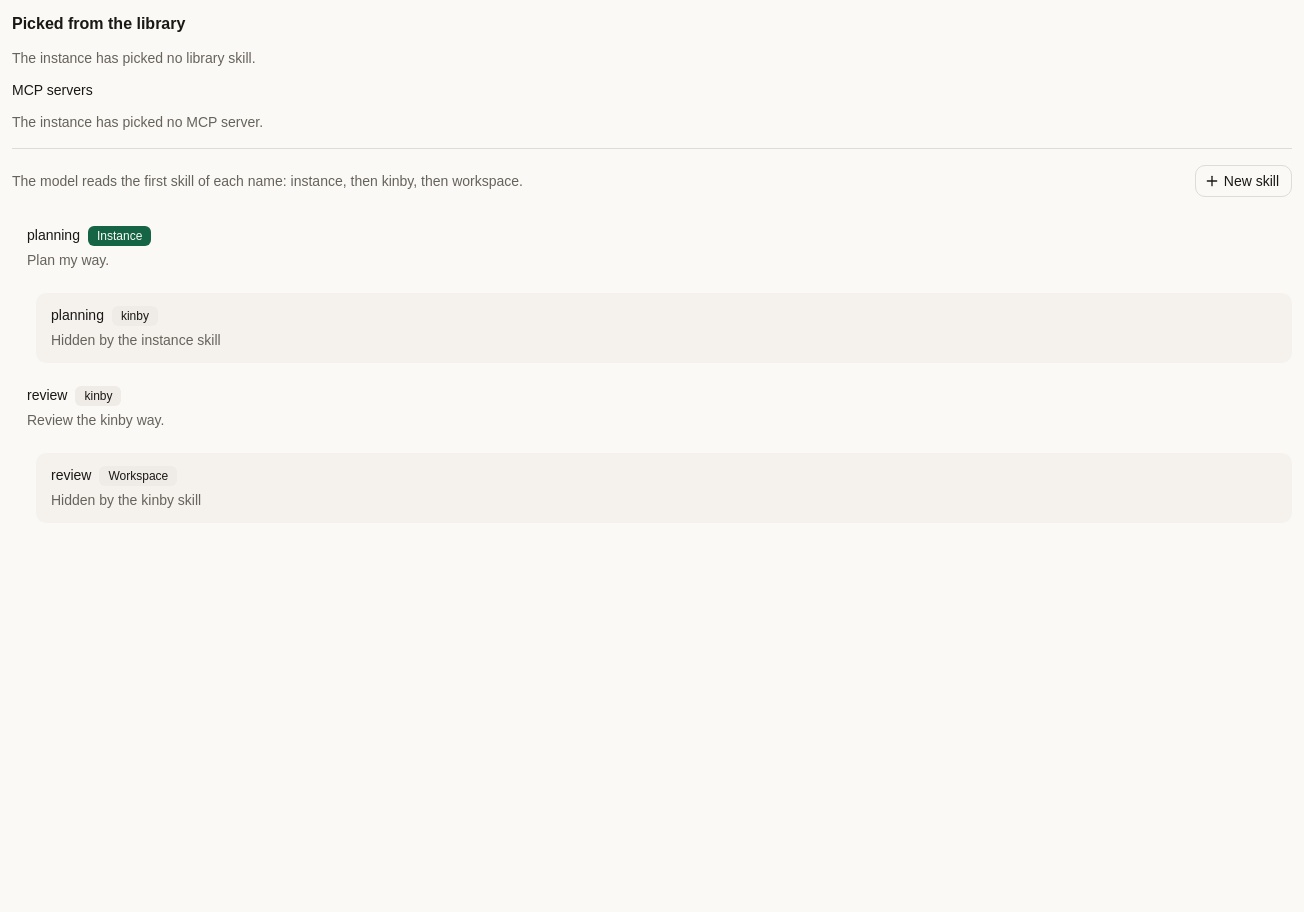
Test case: SkillsSection › offers no Customize on a skill another tier hides
This screenshot has width=1304, height=912.
Click the button with aria-label "review, workspace skill": (71, 475) [36,453,1292,523]
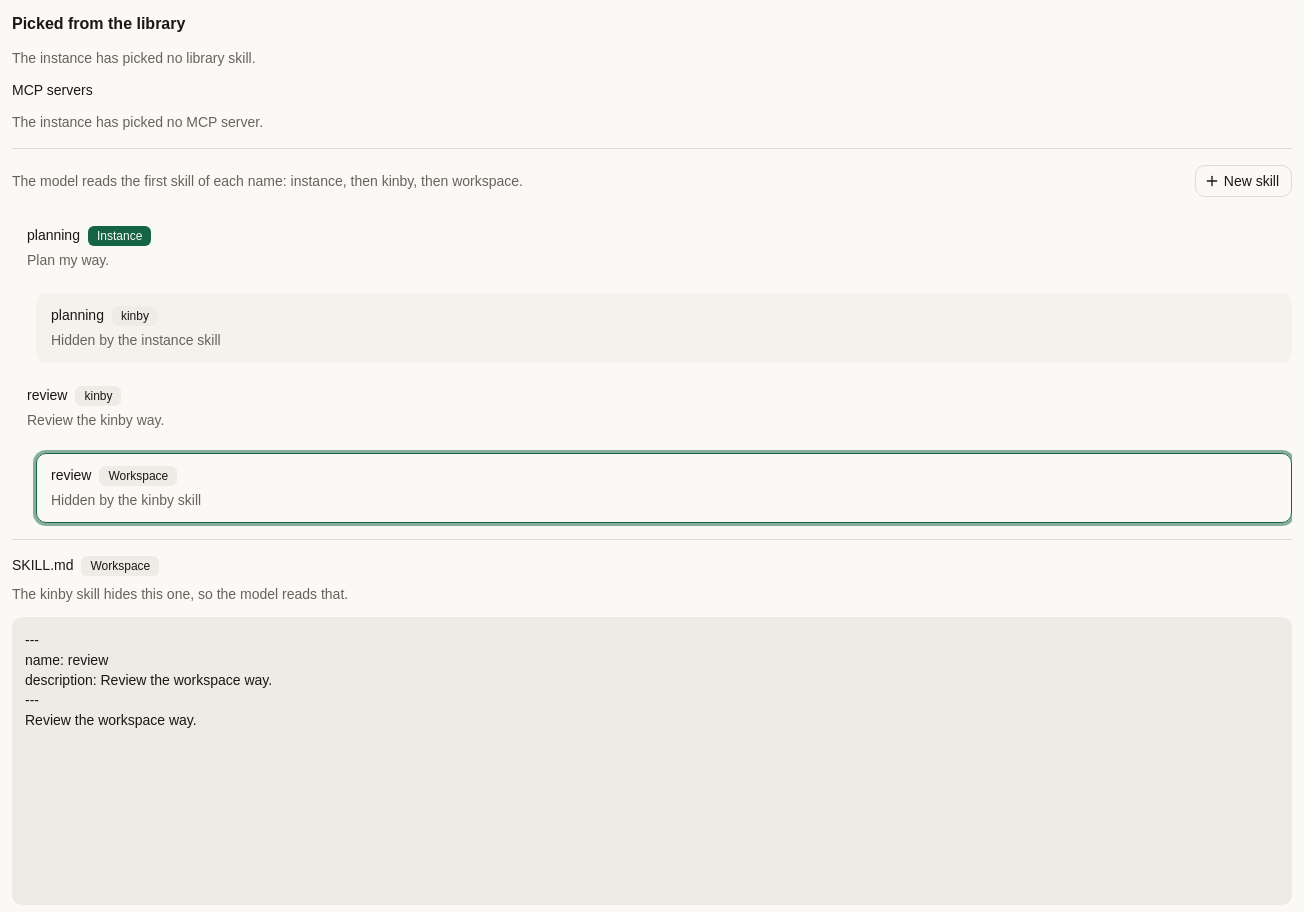
Result: the text "The kinby skill hides this one, so the model reads that." is shown at [12,586,348,602]
